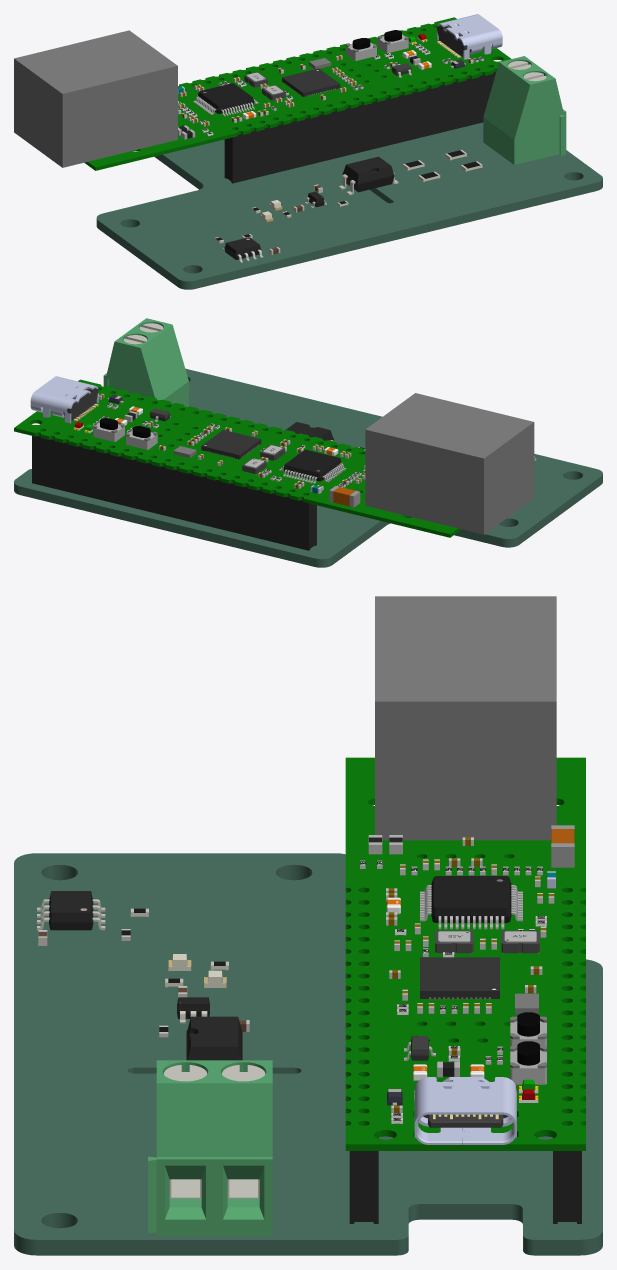
Rendered from pico-poe-mains-carrier-headers.glb.
3 views of the same model, one above another, from view 1: azimuth 30°, elevation 25°; view 2: azimuth 150°, elevation 25°; view 3: azimuth 270°, elevation 25° (orthographic). The views are drawn at different scales.
Parts seen in each view (by area): view 1: =>[0:1:1:19], =>[0:1:1:178], =>[0:1:1:177], =>[0:1:1:7], =>[0:1:1:3], =>[0:1:1:9]; view 2: =>[0:1:1:19], =>[0:1:1:178], =>[0:1:1:177], =>[0:1:1:7], =>[0:1:1:3]; view 3: =>[0:1:1:178], =>[0:1:1:19], =>[0:1:1:7], =>[0:1:1:177] (×2), =>[0:1:1:3], =>[0:1:1:9].
Boxes of the visible parts, left/top/right/bottom form: =>[0:1:1:19]: left=14, top=14, right=510, bottom=170; =>[0:1:1:178]: left=96, top=122, right=602, bottom=289; =>[0:1:1:177]: left=224, top=72, right=496, bottom=183; =>[0:1:1:7]: left=483, top=56, right=566, bottom=164; =>[0:1:1:3]: left=338, top=156, right=398, bottom=195; =>[0:1:1:9]: left=222, top=237, right=263, bottom=262; =>[0:1:1:19]: left=14, top=376, right=534, bottom=537; =>[0:1:1:178]: left=14, top=368, right=602, bottom=567; =>[0:1:1:177]: left=32, top=436, right=316, bottom=550; =>[0:1:1:7]: left=103, top=318, right=188, bottom=406; =>[0:1:1:3]: left=285, top=422, right=333, bottom=441; =>[0:1:1:178]: left=14, top=853, right=602, bottom=1255; =>[0:1:1:19]: left=345, top=596, right=585, bottom=1150; =>[0:1:1:7]: left=148, top=1060, right=272, bottom=1235; =>[0:1:1:177] (×2): left=349, top=1137, right=581, bottom=1223; =>[0:1:1:3]: left=186, top=1016, right=242, bottom=1060; =>[0:1:1:9]: left=37, top=891, right=105, bottom=930.
Bounding box in the file's own units: 0.0852 × 0.026 × 0.0515.
